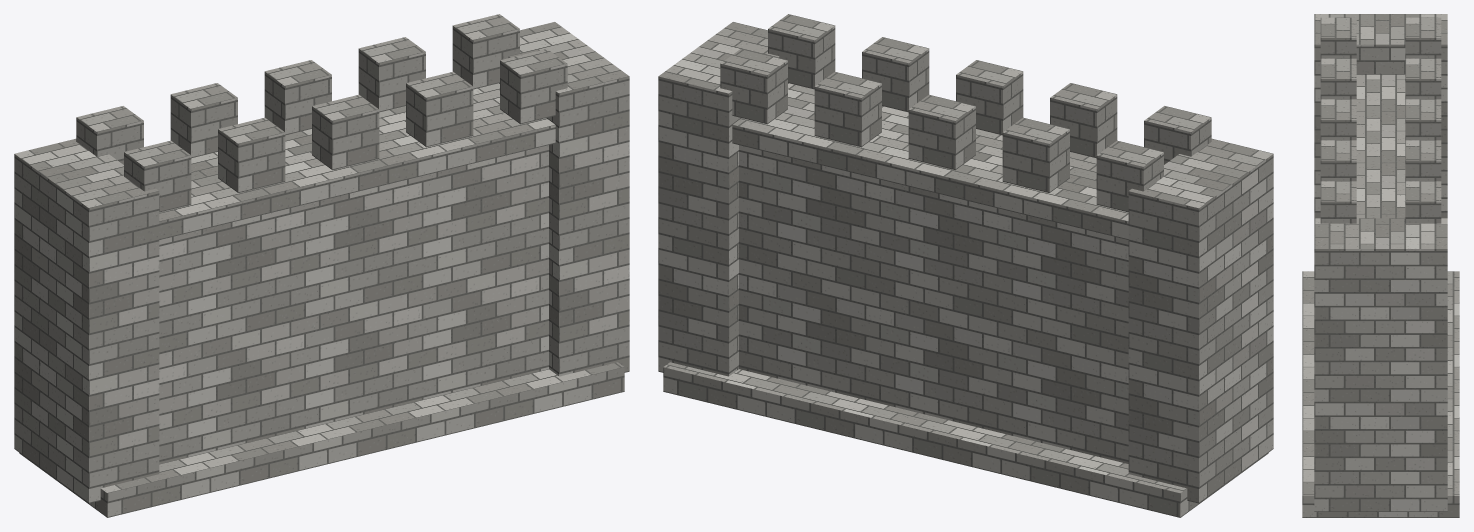
Rendered from wall.glb.
3 renders of one model, left to right at view 1: azimuth 30°, elevation 25°; view 2: azimuth 150°, elevation 25°; view 3: azimuth 270°, elevation 25°, orthographic. The views are drawn at different scales.
Parts seen in each view (by area): view 1: wall; view 2: wall; view 3: wall.
Part boxes in pixels (x1,y1,x2,y2): wall: [14, 14, 629, 517]; wall: [658, 14, 1273, 517]; wall: [1302, 14, 1459, 517].
Size of the model in its own units: 4.6 by 2.7 by 1.3.
Materials: 1 (1 with a texture image).
